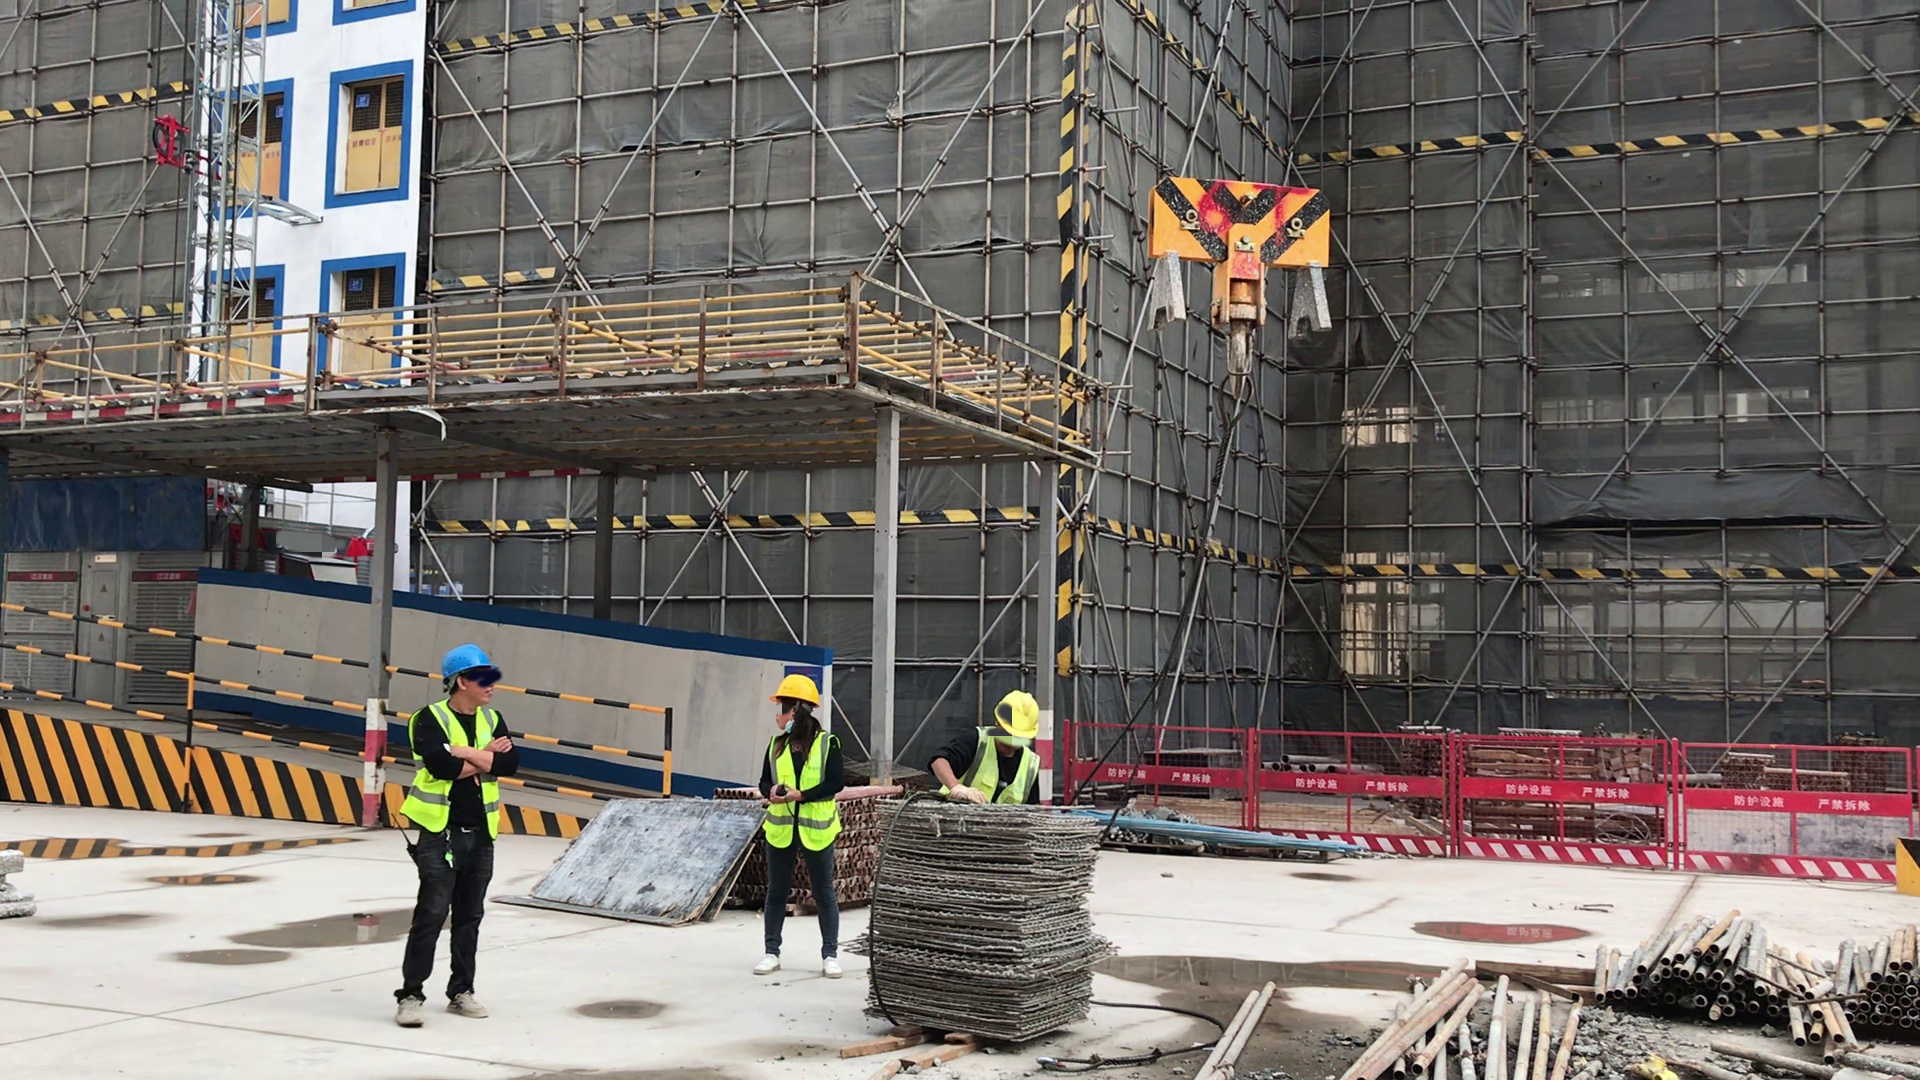fence: (1352, 726, 1884, 885), (7, 593, 348, 774), (1176, 712, 1340, 835), (513, 678, 676, 793)
helmet: (437, 643, 501, 689), (995, 690, 1040, 743), (770, 678, 823, 708)
hook: (1125, 172, 1339, 387)
person: (388, 642, 508, 1027), (748, 672, 848, 985), (926, 689, 1051, 802)
scaffold: (1589, 906, 1920, 1047)
slogan: (25, 571, 59, 582), (152, 571, 184, 582)
vest: (401, 704, 503, 843), (760, 731, 840, 857), (941, 742, 1045, 801)
